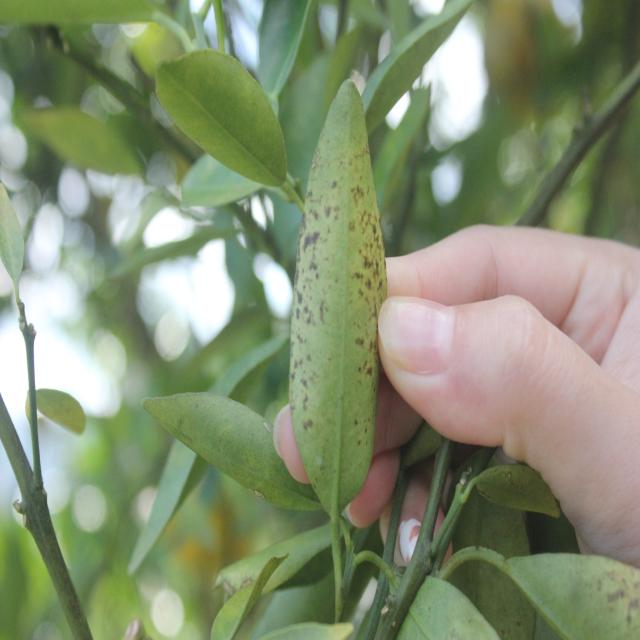melanose: (287, 99, 382, 532)
